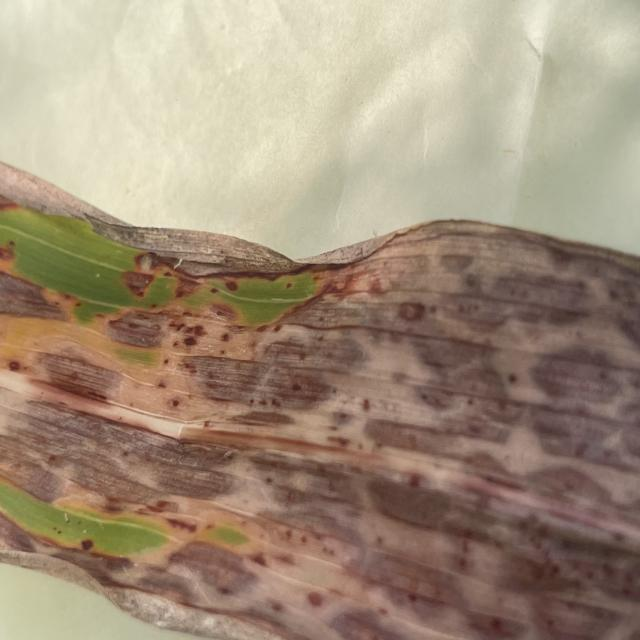millet_rust: (0, 154, 640, 640)
